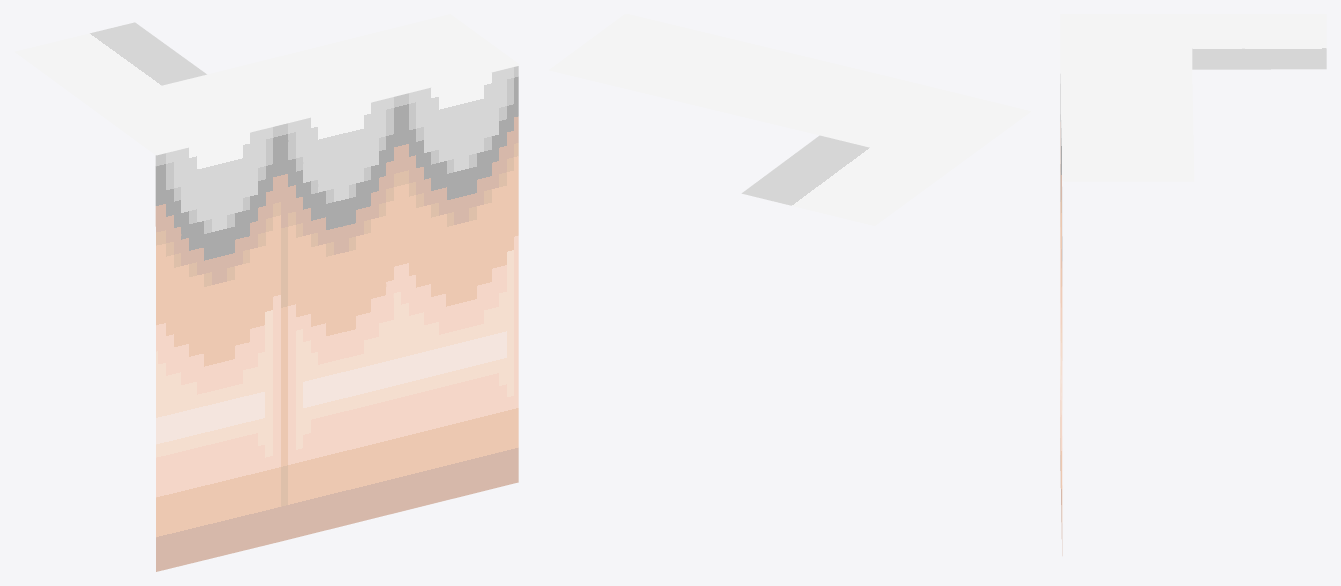
3 views of the same model, side by side, from view 1: azimuth 30°, elevation 25°; view 2: azimuth 150°, elevation 25°; view 3: azimuth 270°, elevation 25° (orthographic). The views are drawn at different scales.
Bounding box in the file's own units: 1.51 × 1.64 × 1.01.
Materials: 1 (1 with a texture image).
